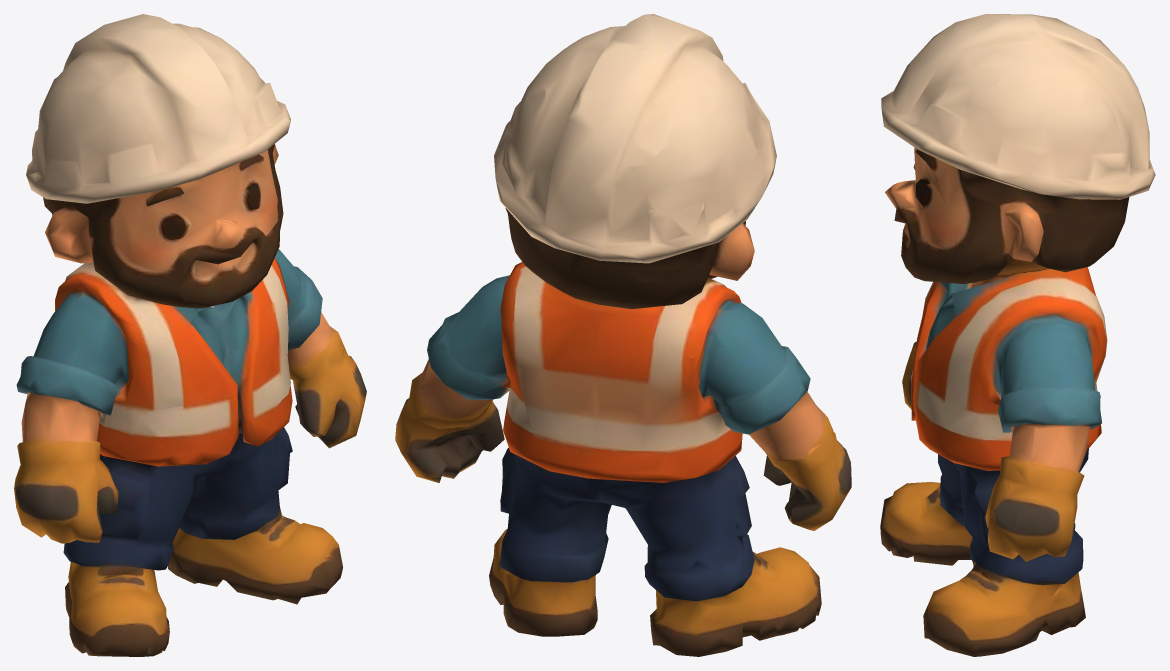
File: factory-worker-loader.glb
The picture shows the model from 3 angles, left to right: view 1: azimuth 30°, elevation 25°; view 2: azimuth 150°, elevation 25°; view 3: azimuth 270°, elevation 25°; orthographic projection. The views are drawn at different scales.
Visible parts, largest first — view 1: factory-worker-loader; view 2: factory-worker-loader; view 3: factory-worker-loader.
Part boxes in pixels (bbox=[...]): factory-worker-loader: bbox=[14, 14, 366, 656]; factory-worker-loader: bbox=[395, 14, 851, 656]; factory-worker-loader: bbox=[880, 14, 1155, 656].
Bounding box in the file's own units: 1.14 × 1.65 × 0.7301.
Materials: 1 (1 with a texture image).
